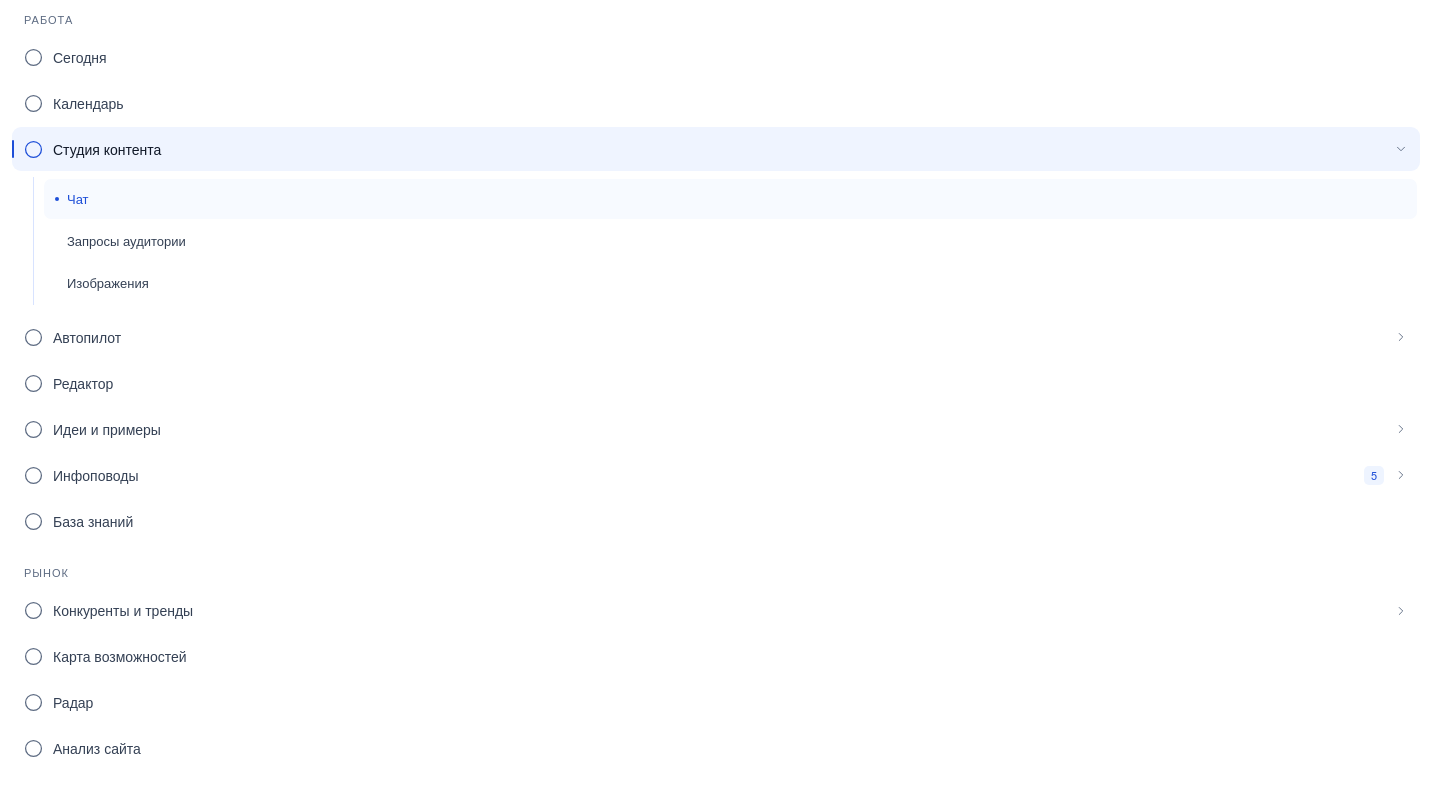
Test: real sidebar navigation interactions › opening another branch never navigates or closes the mobile drawer
The width and height of the screenshot is (1440, 785).
Click the button "Автопилот" at (87, 337), box 12,315 -> 1420,359
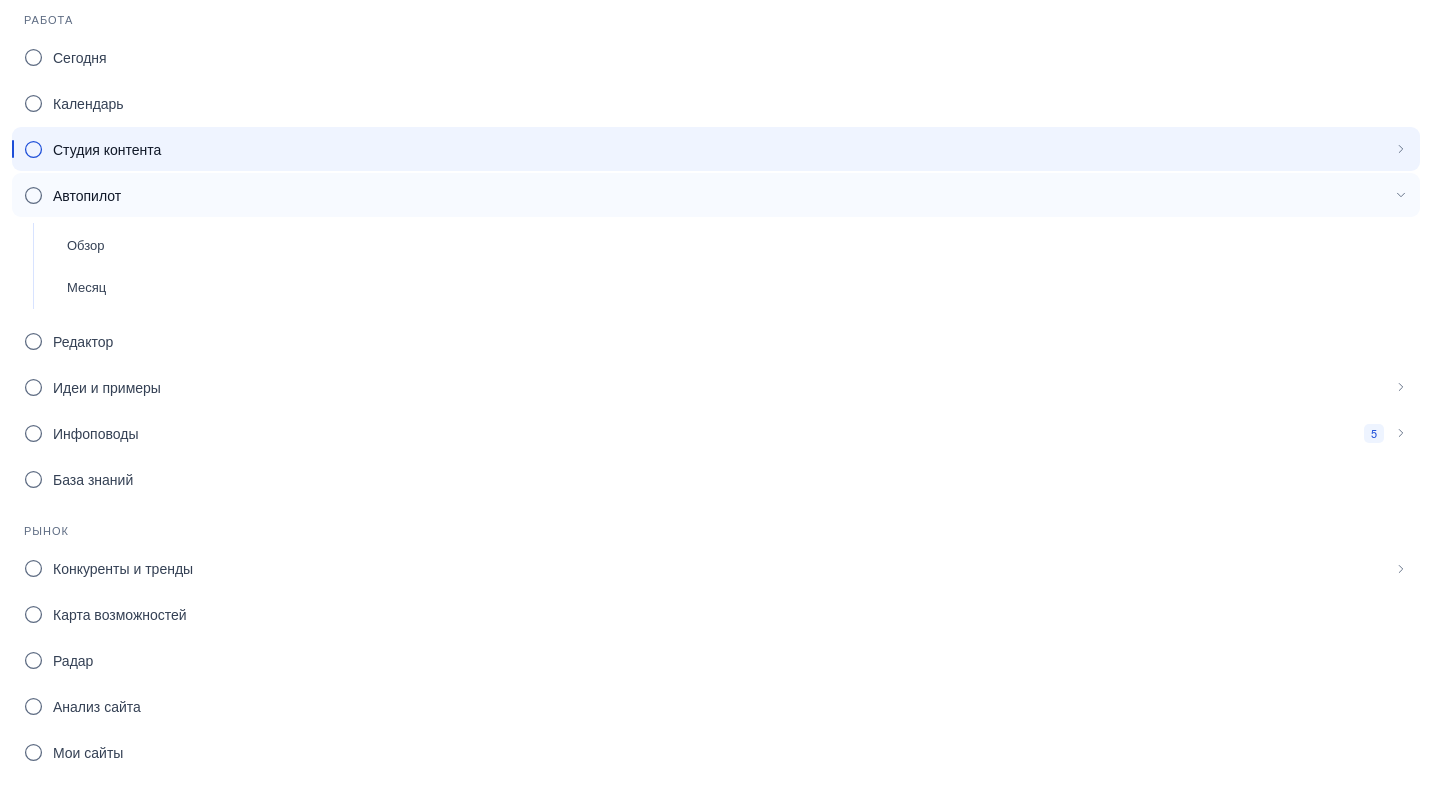
Check: the button "Автопилот" is expanded, box 12,173 -> 1420,217
